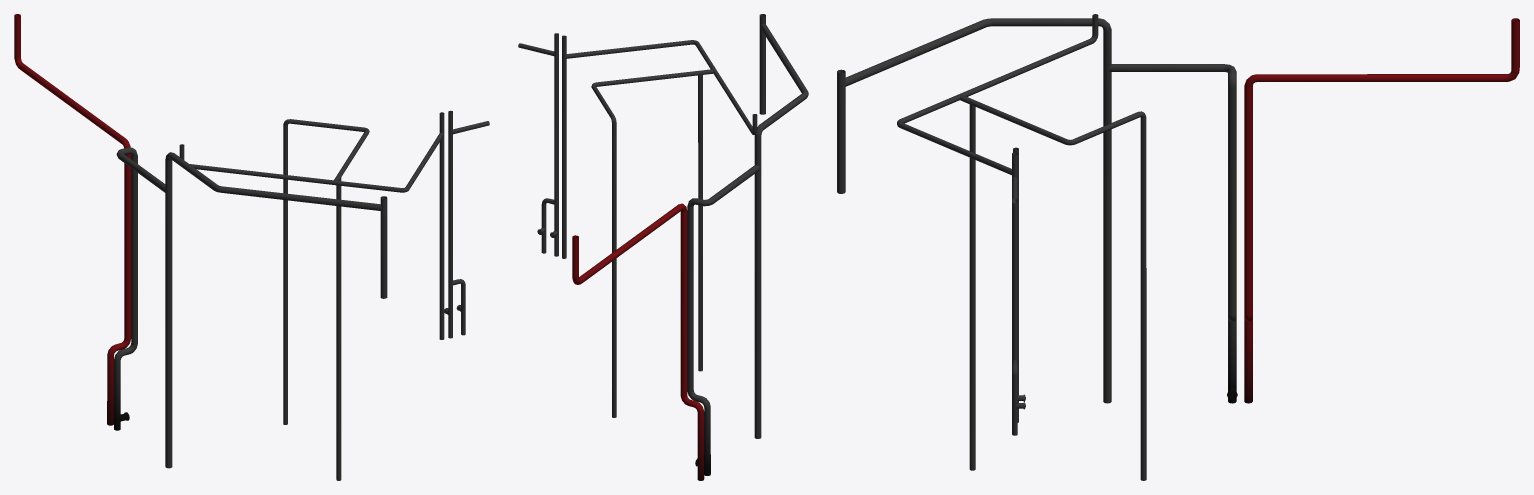
Rendered from SM_H_Building_Tide_Jail_C_04_Pipeline_02_ATLAS.fbx.
The picture shows the model from 3 angles, left to right: view 1: azimuth 30°, elevation 25°; view 2: azimuth 150°, elevation 25°; view 3: azimuth 270°, elevation 25°; orthographic projection. The views are drawn at different scales.
Parts seen in each view (by area): view 1: SM_H_Building_Tide_Jail_C_04_Pipeline_02_ATLAS; view 2: SM_H_Building_Tide_Jail_C_04_Pipeline_02_ATLAS; view 3: SM_H_Building_Tide_Jail_C_04_Pipeline_02_ATLAS.
Boxes of the visible parts, bbox=[...] form: SM_H_Building_Tide_Jail_C_04_Pipeline_02_ATLAS: bbox=[14, 14, 489, 480]; SM_H_Building_Tide_Jail_C_04_Pipeline_02_ATLAS: bbox=[518, 14, 808, 480]; SM_H_Building_Tide_Jail_C_04_Pipeline_02_ATLAS: bbox=[837, 14, 1519, 480].
Size of the model in its own units: 1328 by 2279 by 1446.
